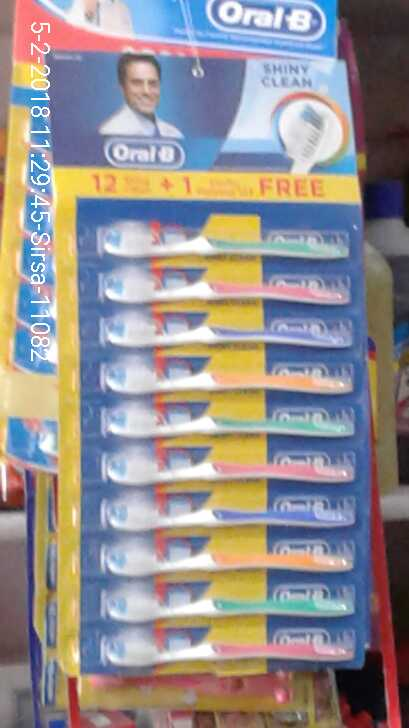oralb: (91, 203, 359, 257), (93, 525, 350, 581), (98, 346, 334, 405), (101, 486, 357, 536), (85, 307, 351, 354), (86, 579, 364, 620), (105, 262, 347, 307), (97, 627, 348, 668), (100, 450, 354, 490), (96, 411, 350, 446)
